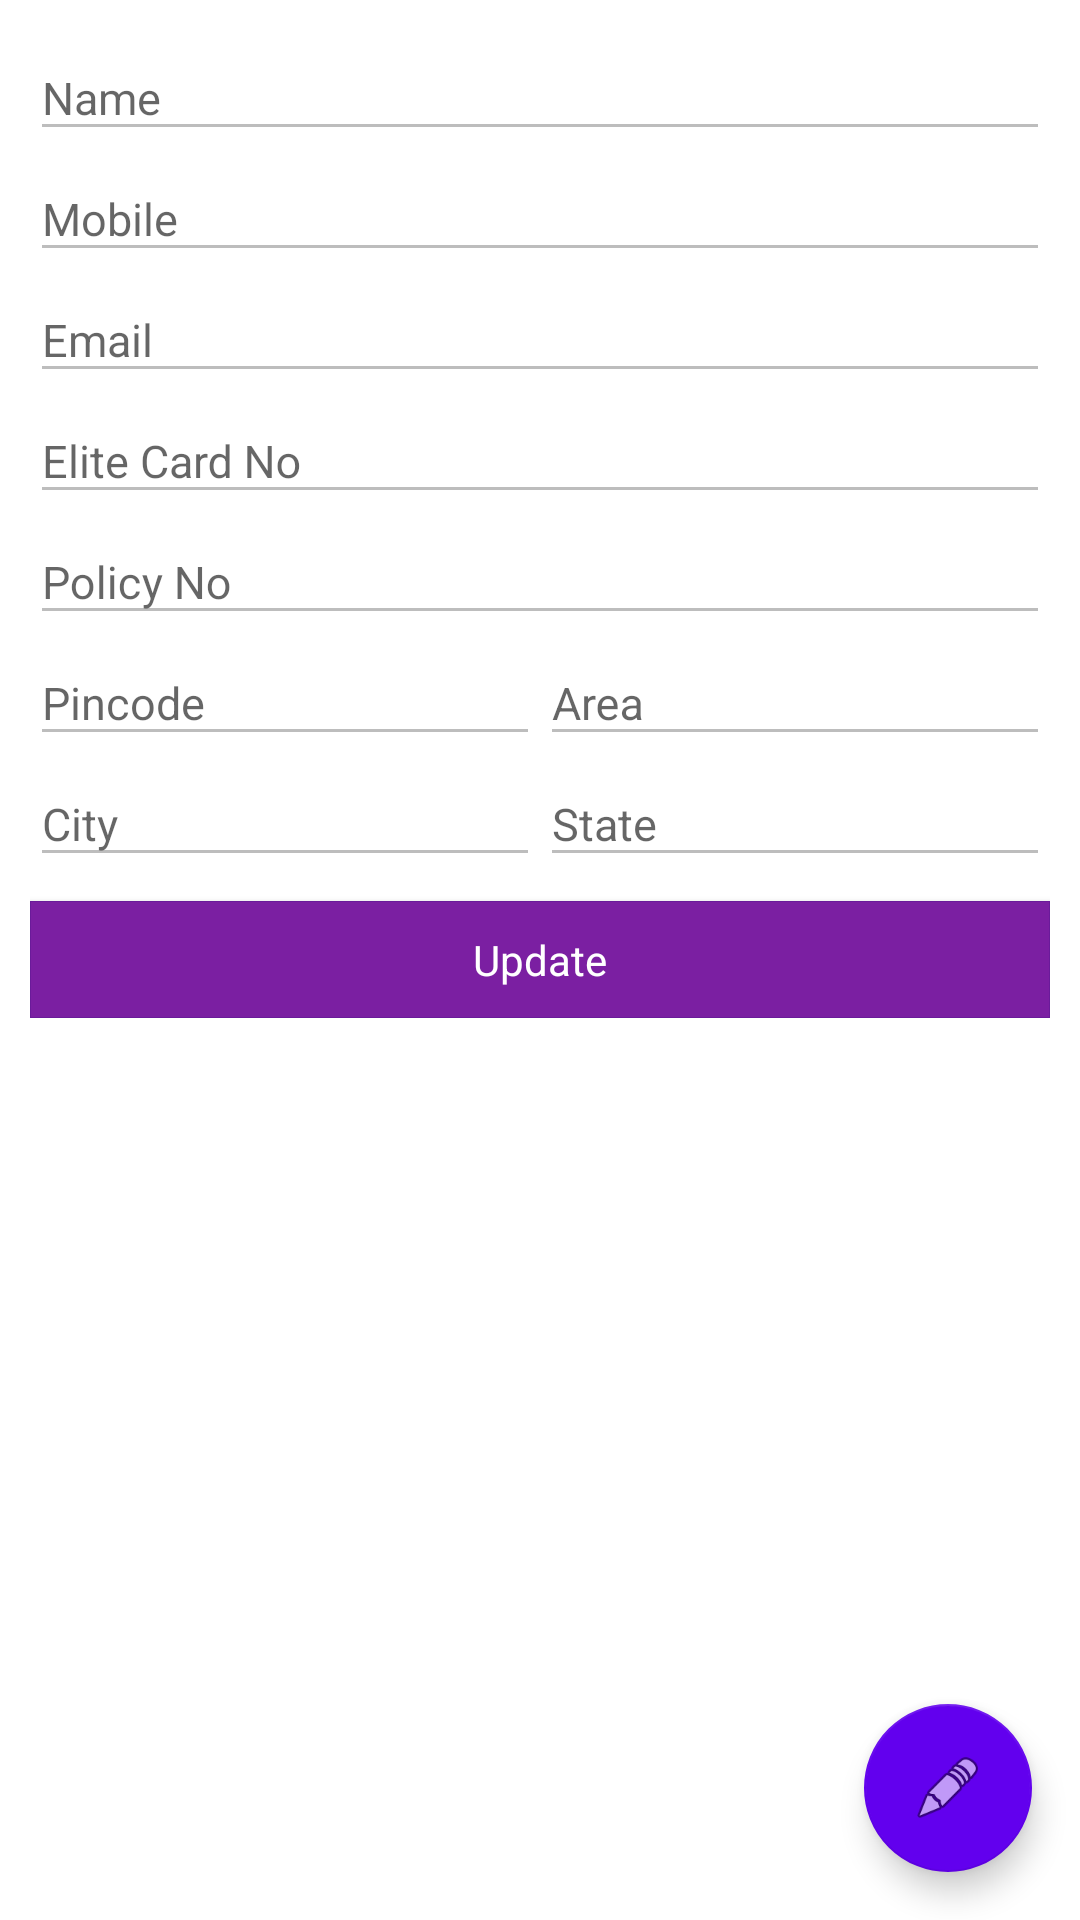

Where icons sit on this 1080×1920 app screen, as box(x1, y1, x2, y2):
edit: box(864, 1704, 1032, 1872)
